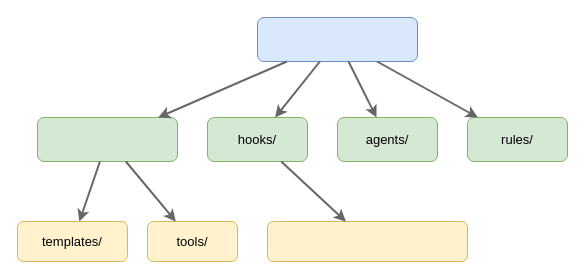
This 585x279 diagram has some shape labels left out. The shapes that lost their labels are listed below. From the top down, each one's centre as x and y in pixels, then its label:
At point (337, 39): "bin/install.js".
At point (107, 139): "commands/dc/".
At point (367, 241): ".context/MANIFEST.md".
